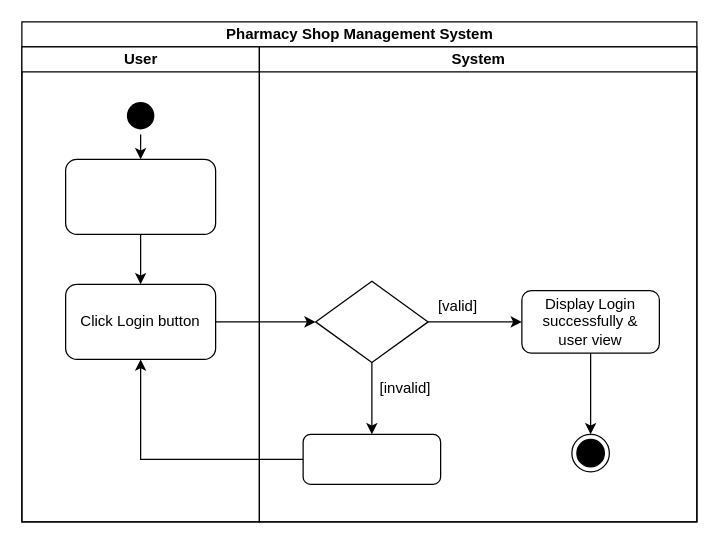
Some shapes in this 719 by 544 pixel diagram are drawn without their labels. The box of each missing label's shape, as (x1, y1, x2, y2) in pixels:
Display Error message: (302, 433, 441, 484)
Enter username & password: (64, 158, 216, 234)
user validation: (314, 280, 428, 362)
